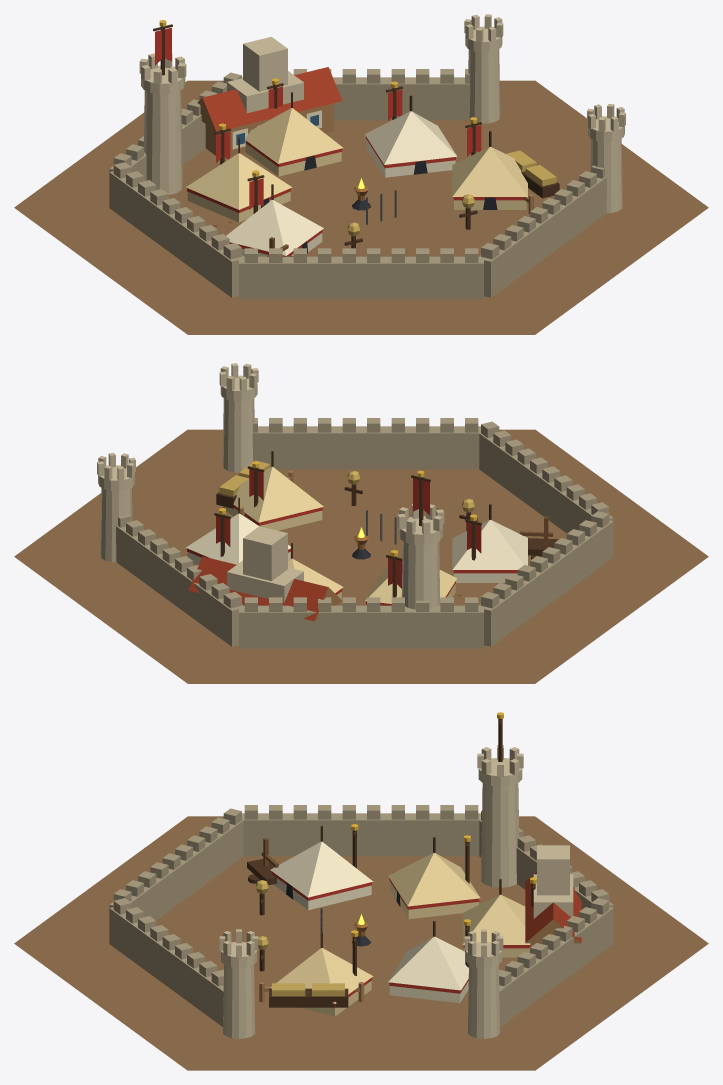
Rendered from district_encampment_3.fbx.
3 renders of one model, top to bottom at view 1: azimuth 30°, elevation 25°; view 2: azimuth 150°, elevation 25°; view 3: azimuth 270°, elevation 25°, orthographic.
Parts seen in each view (by area): view 1: district_encampment_3; view 2: district_encampment_3; view 3: district_encampment_3.
Boxes of the visible parts, x1,y1,x2,y2 form: district_encampment_3: [14, 14, 708, 334]; district_encampment_3: [14, 363, 708, 683]; district_encampment_3: [14, 712, 708, 1070].
Bounding box in the file's own units: 182 × 55.6 × 210.
